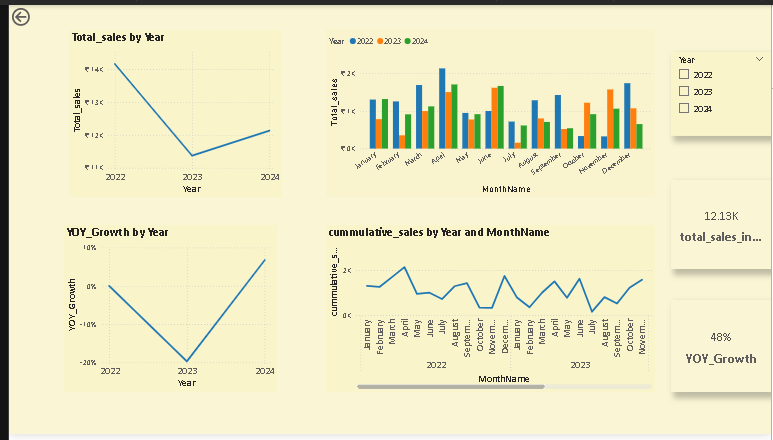

This screenshot's page, from the dashboard's own definition file:
{"tool":"powerbi","page":{"name":"Time_Series_Analysis","canvas":[1280,720],"ordinal":4},"visuals":[{"type":"lineChart","fields":{"Y":["Metrics.Total_sales"],"Category":["calendar.Year","calendar.MonthName"]},"box":[100.8,42,357.8,280.5],"z":0},{"type":"lineClusteredColumnComboChart","fields":{"Y":["Metrics.Total_sales"],"Category":["calendar.MonthName"],"Series":["calendar.Year"]},"box":[532.5,40.3,552.7,282.2],"z":1000},{"type":"lineChart","fields":{"Category":["calendar.Year"],"Y":["Metrics.YOY_Growth"]},"box":[93,370,358,280],"z":2000},{"type":"lineChart","fields":{"Category":["calendar.Year","calendar.MonthName"],"Y":["Metrics.cummulative_sales"]},"box":[532.5,369.6,552.7,280.5],"z":3000},{"type":"slicer","fields":{"Values":["calendar.Year"]},"box":[1112,79,168,141.1],"z":4000},{"type":"card","fields":{"Values":["Metrics.total_sales_in_this_year"]},"box":[1112,294,168,149.5],"z":5000},{"type":"card","fields":{"Values":["Metrics.YOY_Growth"]},"box":[1112,495.5,168,154.5],"z":6000},{"type":"actionButton","box":[0,0,100,40],"z":7000}]}

Visuals, with their boxes in screenshot pixels (x1, y1, x2, y2), scaled from the page's 1280x720 canvas onto the 773x440 screenshot:
lineChart - Metrics.Total_sales x calendar.Year: x1=61, y1=26, x2=277, y2=197
lineClusteredColumnComboChart - Metrics.Total_sales x calendar.MonthName: x1=322, y1=25, x2=655, y2=197
lineChart - calendar.Year x Metrics.YOY_Growth: x1=56, y1=226, x2=272, y2=397
lineChart - calendar.Year x calendar.MonthName: x1=322, y1=226, x2=655, y2=397
slicer - calendar.Year: x1=672, y1=48, x2=772, y2=135
card - Metrics.total_sales_in_this_year: x1=672, y1=180, x2=772, y2=271
card - Metrics.YOY_Growth: x1=672, y1=303, x2=772, y2=397
actionButton: x1=0, y1=0, x2=60, y2=24
